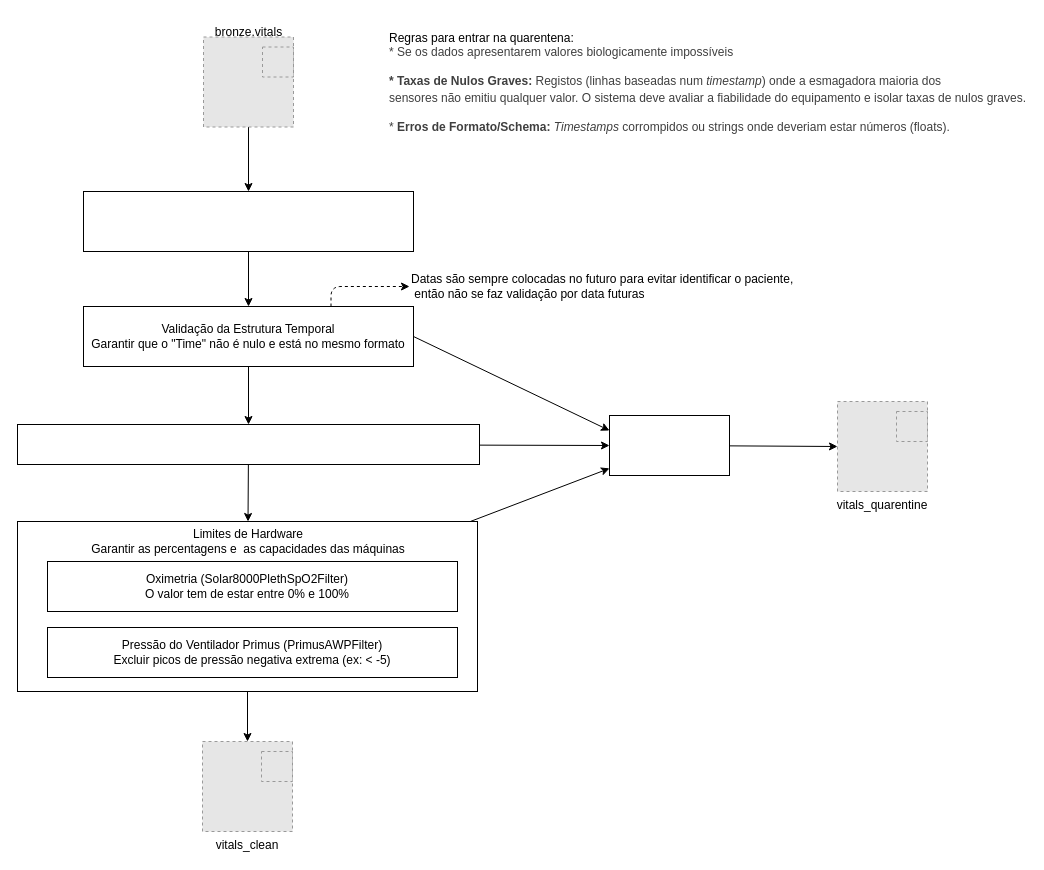
The diagram is 1044 pixels wide and 870 high, and some of its shapes have lost their labels. Grey dashed boxes stand in for pictures. Each missing label, with the box of its shape:
Isolar Erros: (608, 414, 730, 476)
Limites Biológicos (Todos estes sensores precisam de ter valores maiores que 0): (16, 424, 480, 464)
Normalizar nomes das colunas: (82, 190, 414, 252)
